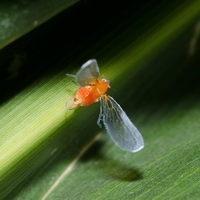insect: (66, 59, 143, 151)
